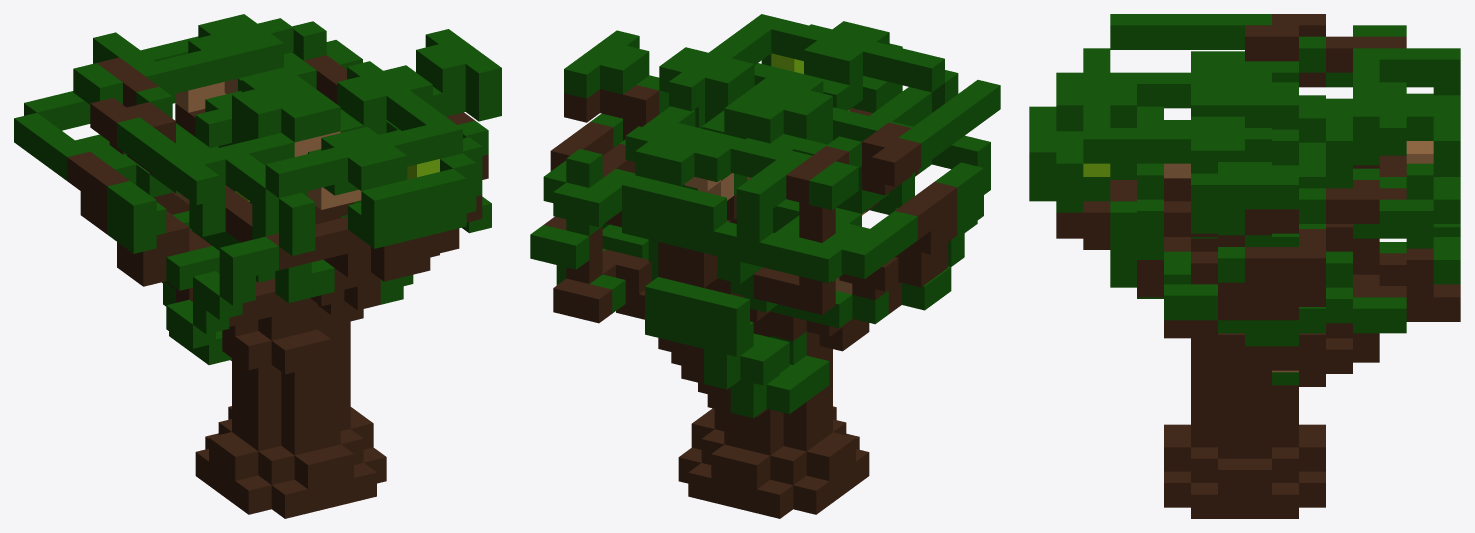
The model's file is Diego_Martínez_Rodríguez_fase_3.obj.
The picture shows the model from 3 angles, left to right: view 1: azimuth 30°, elevation 25°; view 2: azimuth 150°, elevation 25°; view 3: azimuth 270°, elevation 25°; orthographic projection.
Parts seen in each view (by area): view 1: Diego_Martínez_Rodríguez_fase_3; view 2: Diego_Martínez_Rodríguez_fase_3; view 3: Diego_Martínez_Rodríguez_fase_3.
Boxes of the visible parts, x1,y1,x2,y2 form: Diego_Martínez_Rodríguez_fase_3: (14, 14, 501, 518); Diego_Martínez_Rodríguez_fase_3: (530, 14, 1000, 518); Diego_Martínez_Rodríguez_fase_3: (1029, 14, 1460, 518).
Size of the model in its own units: 16 by 16 by 16.
1 material, 1 textured.
